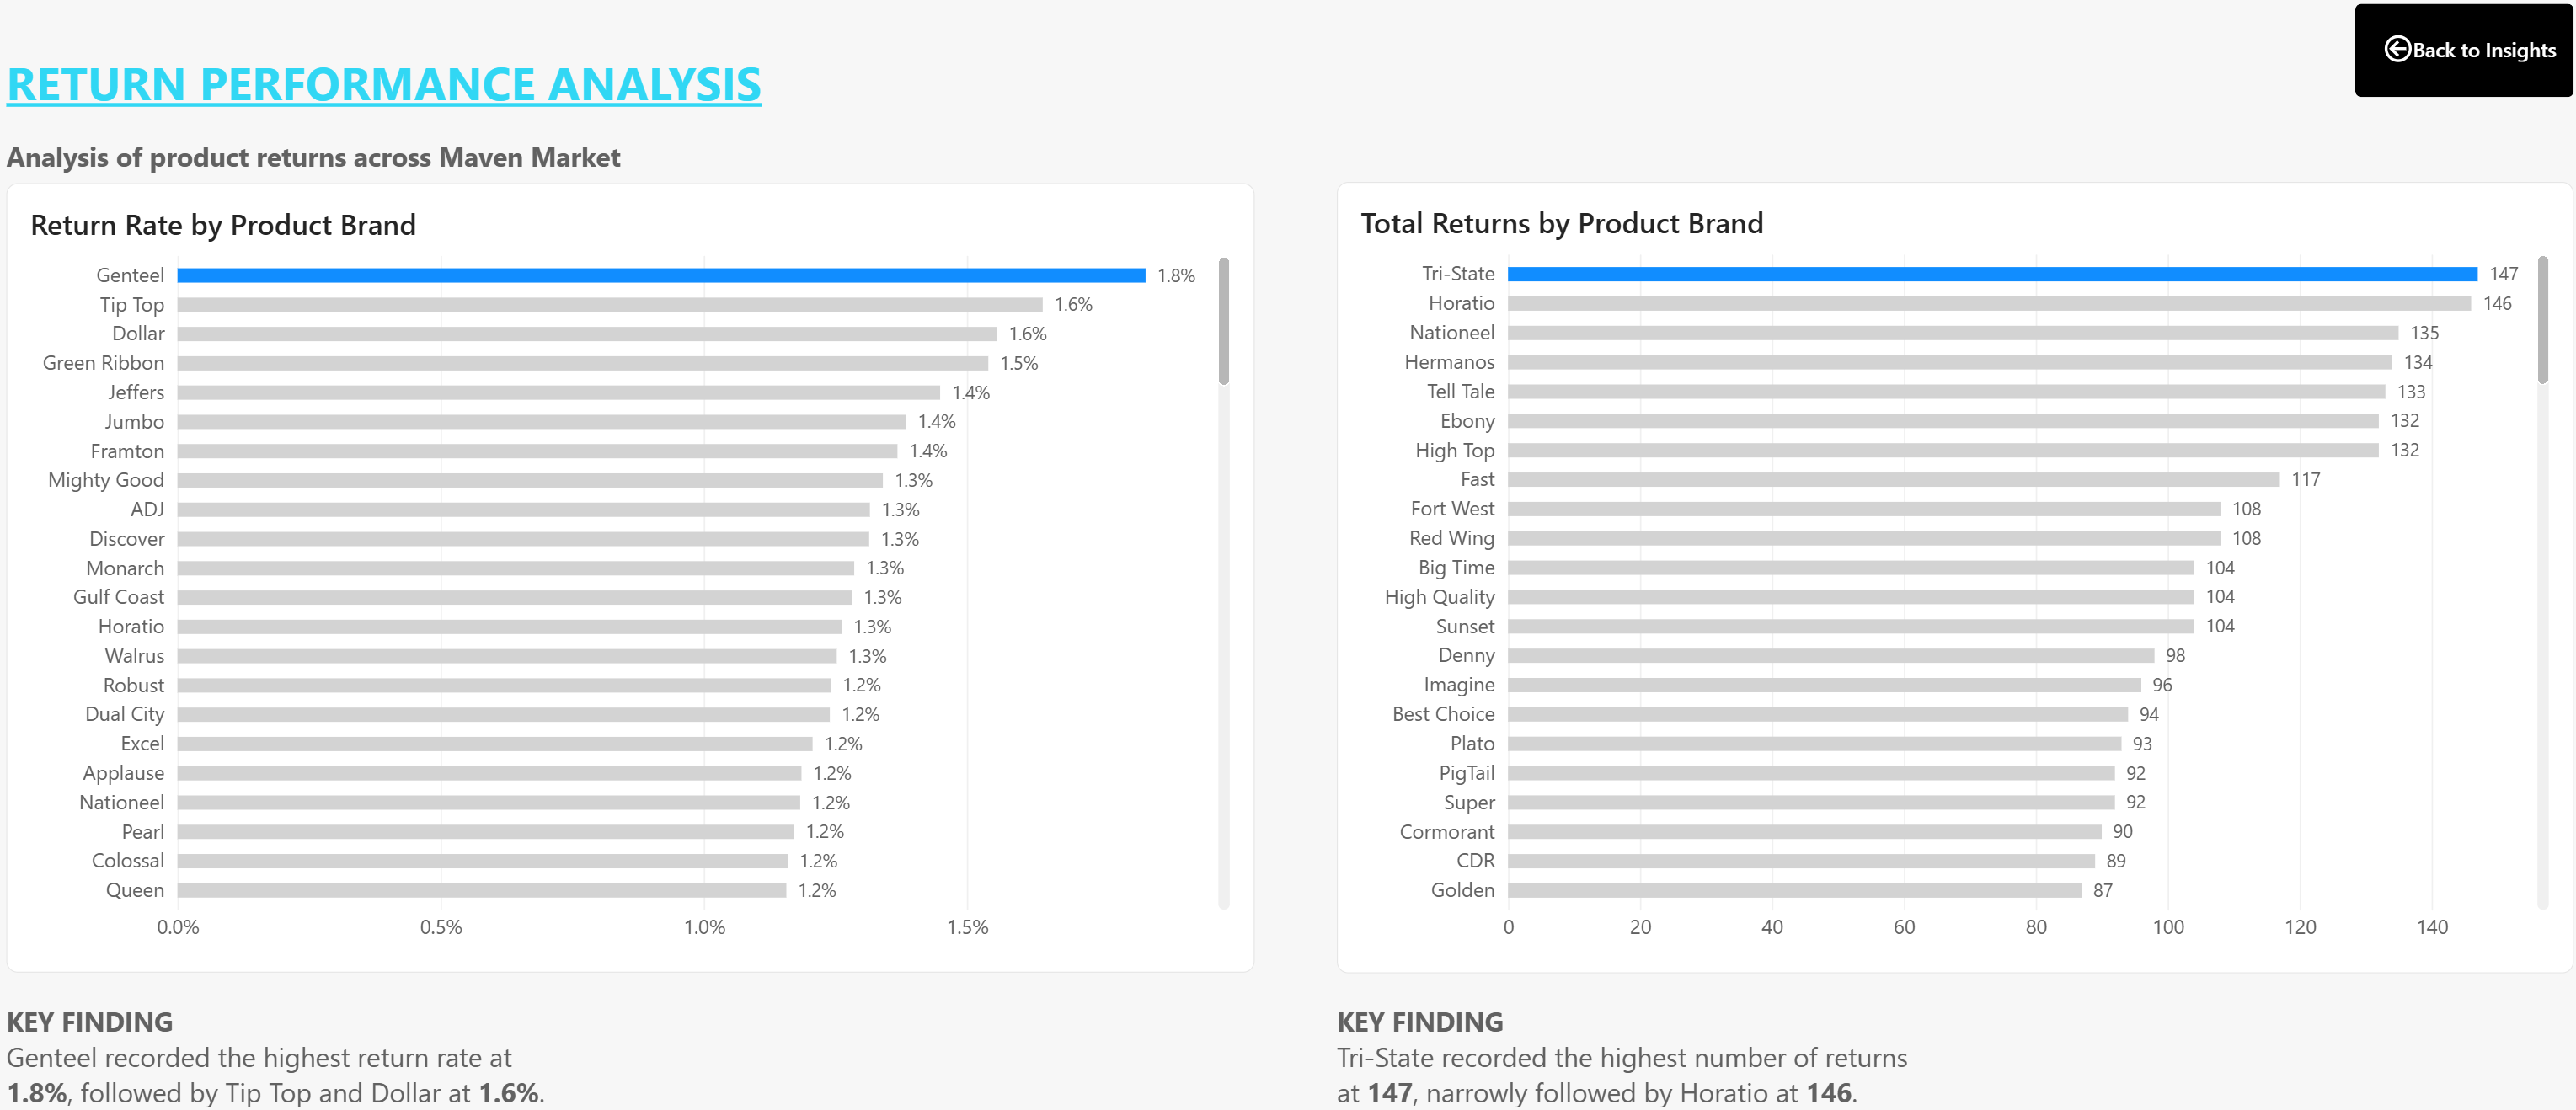

The page's visual inventory and layout, read from the dashboard file:
{"tool":"powerbi","page":{"name":"Returns Performance","canvas":[1920,1080],"ordinal":3},"visuals":[{"type":"clusteredBarChart","title":"Return Rate by Product Brand","fields":{"Category":["Products.Product_brand"],"Y":["Measures (2).Return Rate"]},"box":[59.2,163.7,872.6,552.3],"z":0},{"type":"textbox","box":[59.2,70.7,919.5,86.6],"z":1000},{"type":"textbox","box":[59.2,737.1,389.6,149.6],"z":2000},{"type":"actionButton","box":[1701.1,38.2,152.6,65.3],"z":3000},{"type":"clusteredBarChart","title":"Total Returns by Product Brand","fields":{"Category":["Products.Product_brand"],"Y":["Measures (2).Total Returns"]},"box":[989.1,162.7,864.6,553.3],"z":4000},{"type":"textbox","box":[989.1,737.1,415.7,131.5],"z":5000}]}

Visuals, with their boxes on the page's 1920x1080 design canvas (x1, y1, x2, y2). These are canvas units, not pixel positions in the 2576x1110 screenshot, which may show the page scaled, cropped or inside an application window:
"Return Rate by Product Brand" clusteredBarChart: 59, 164, 932, 716
textbox: 59, 71, 979, 157
textbox: 59, 737, 449, 887
actionButton: 1701, 38, 1854, 104
"Total Returns by Product Brand" clusteredBarChart: 989, 163, 1854, 716
textbox: 989, 737, 1405, 869
